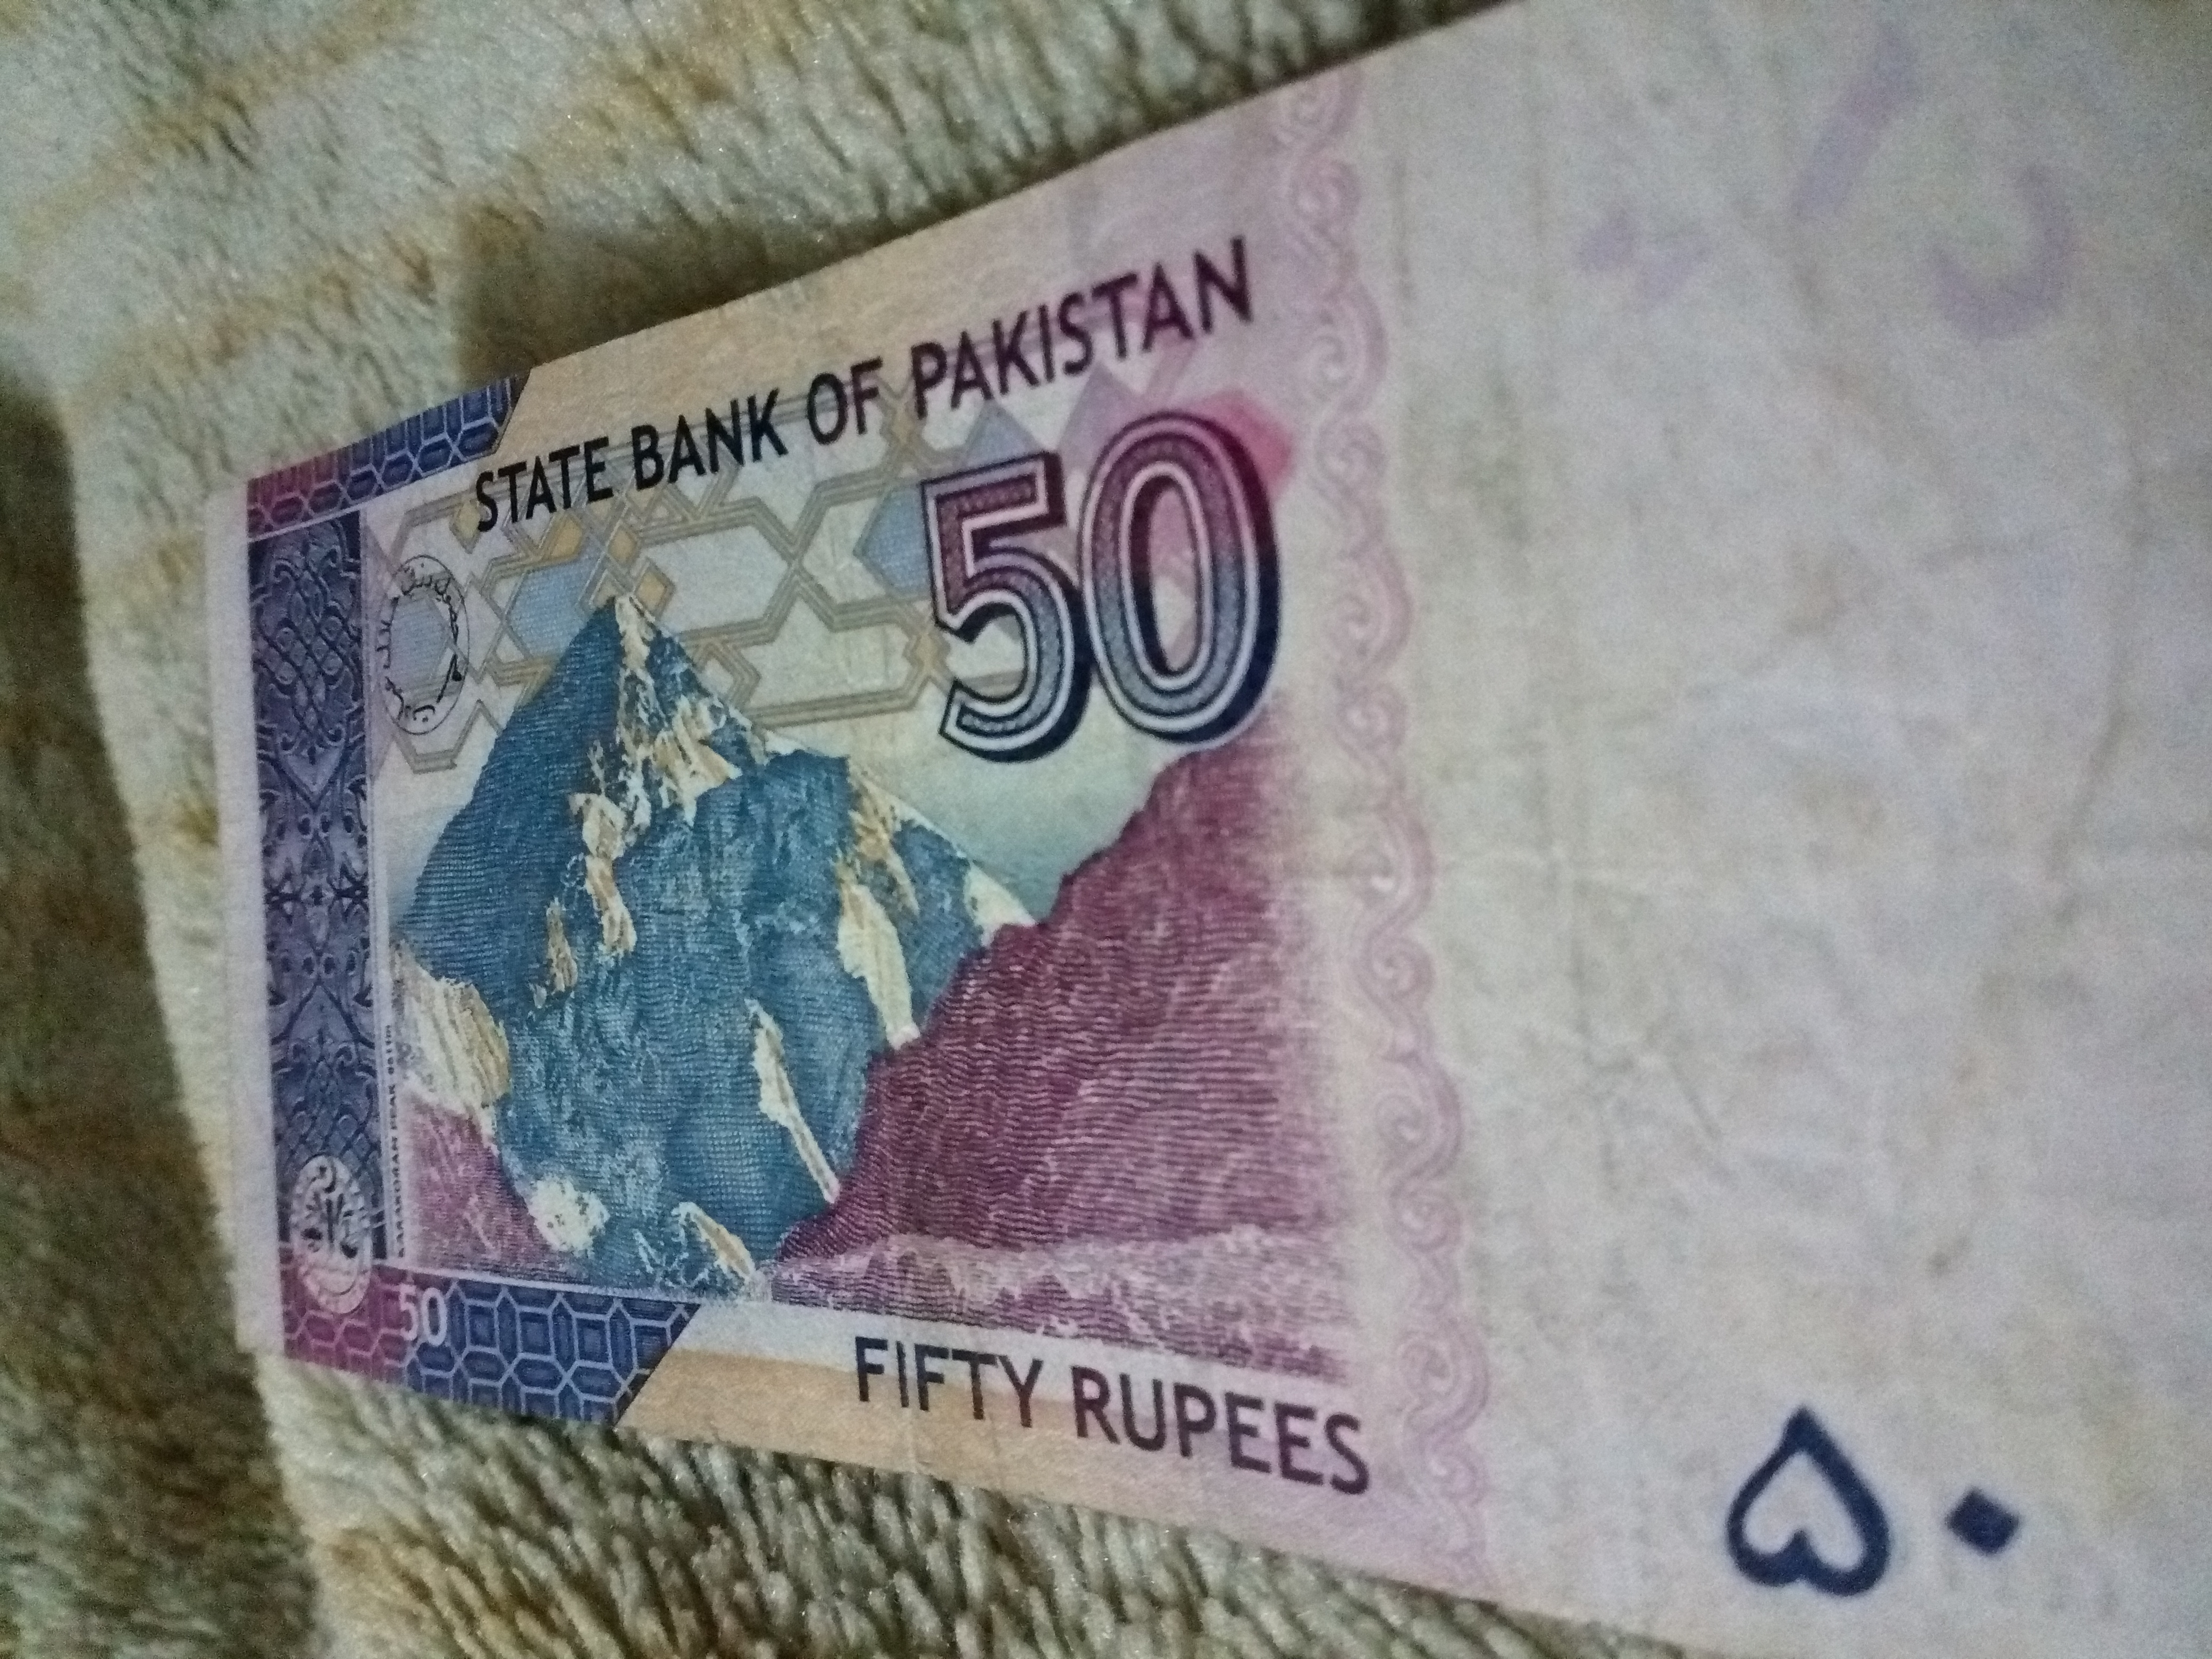50 rupee: (85, 117, 2212, 1659), (1622, 1274, 2175, 1649)
